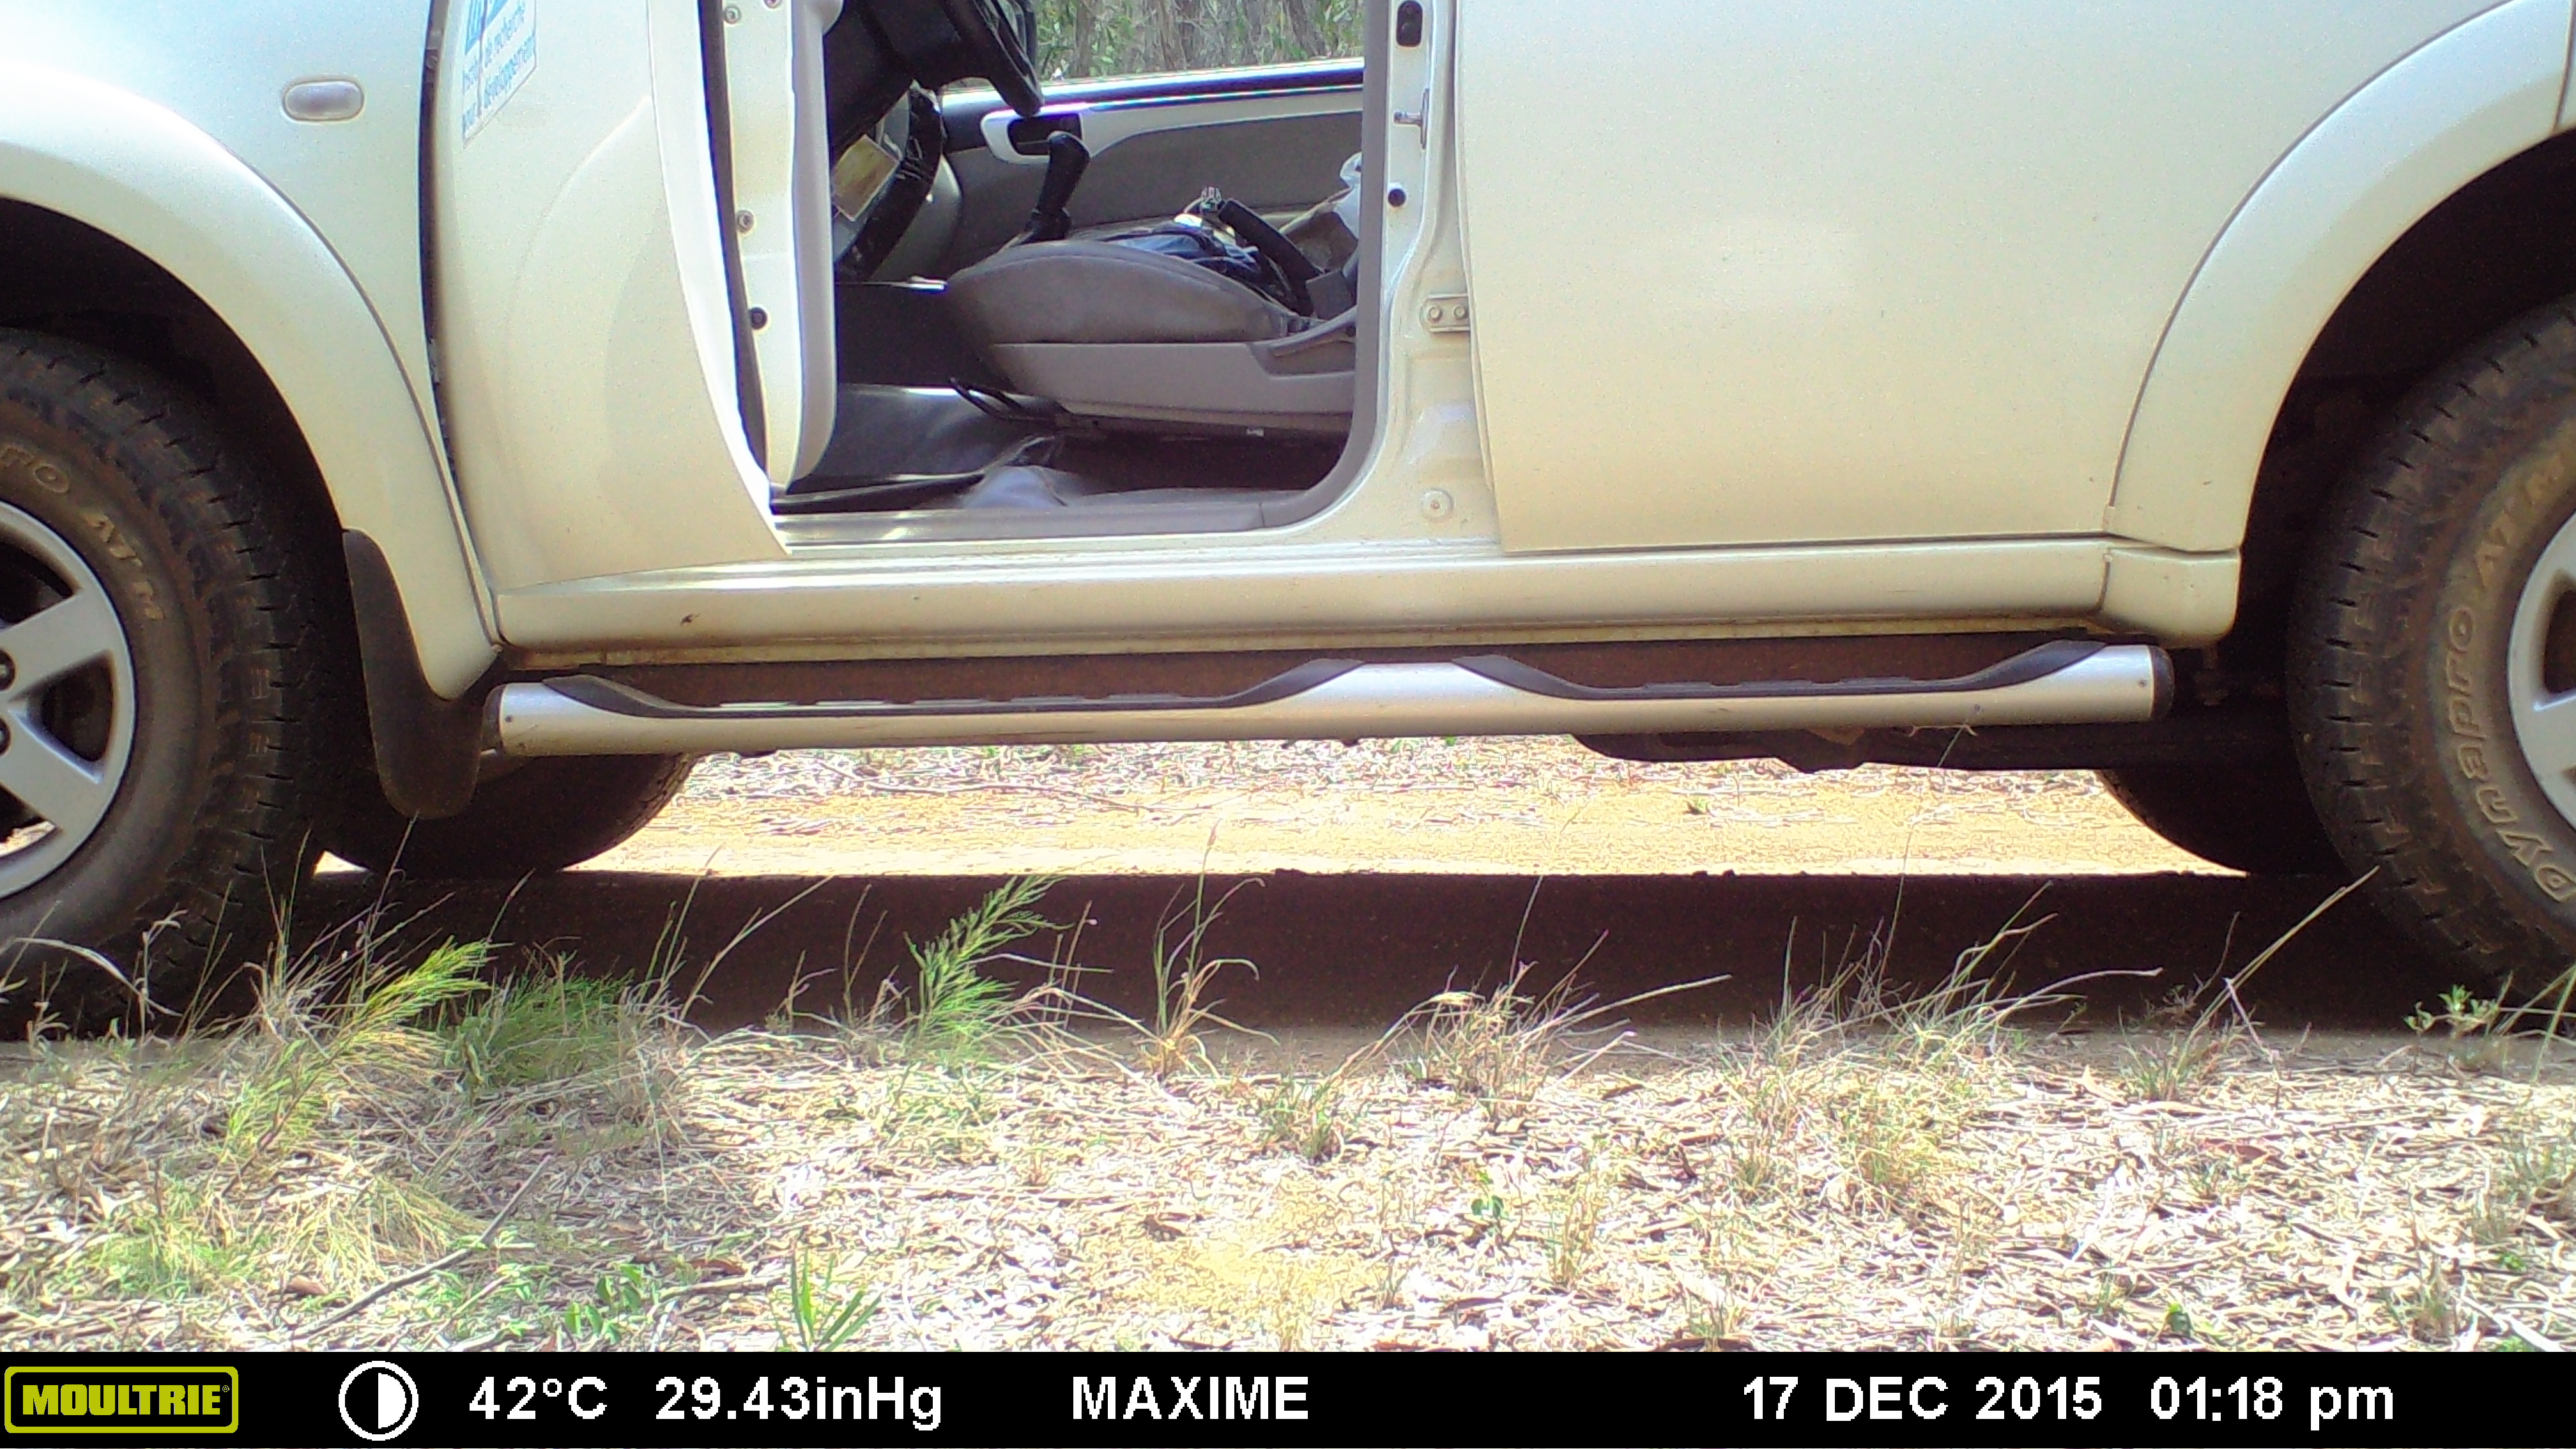Car: (0, 7, 2569, 1044)
